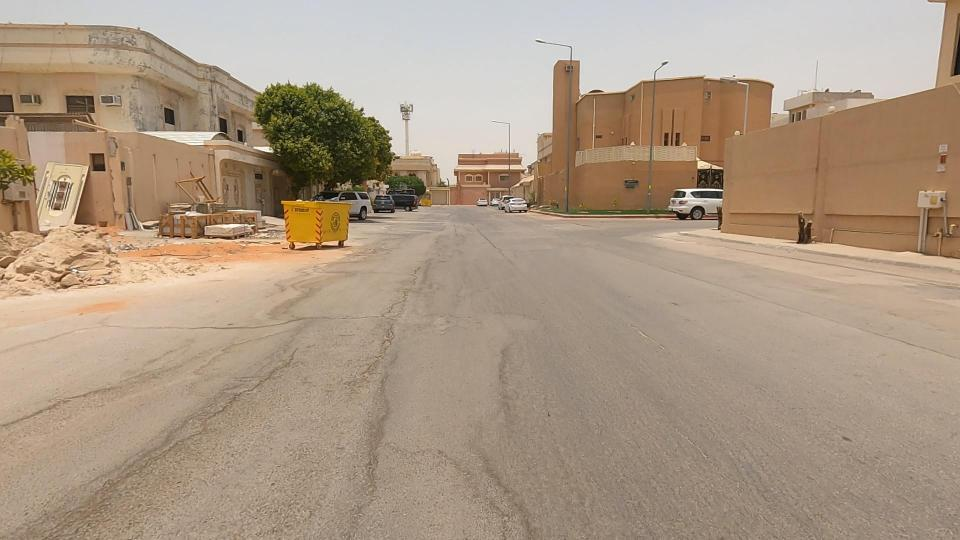GARBAGE: (186, 165, 301, 272), (126, 183, 236, 254)
POTHOLES: (314, 238, 458, 483), (183, 299, 357, 488), (368, 410, 589, 540)
SAND_ON_ROAD: (0, 185, 185, 331)
